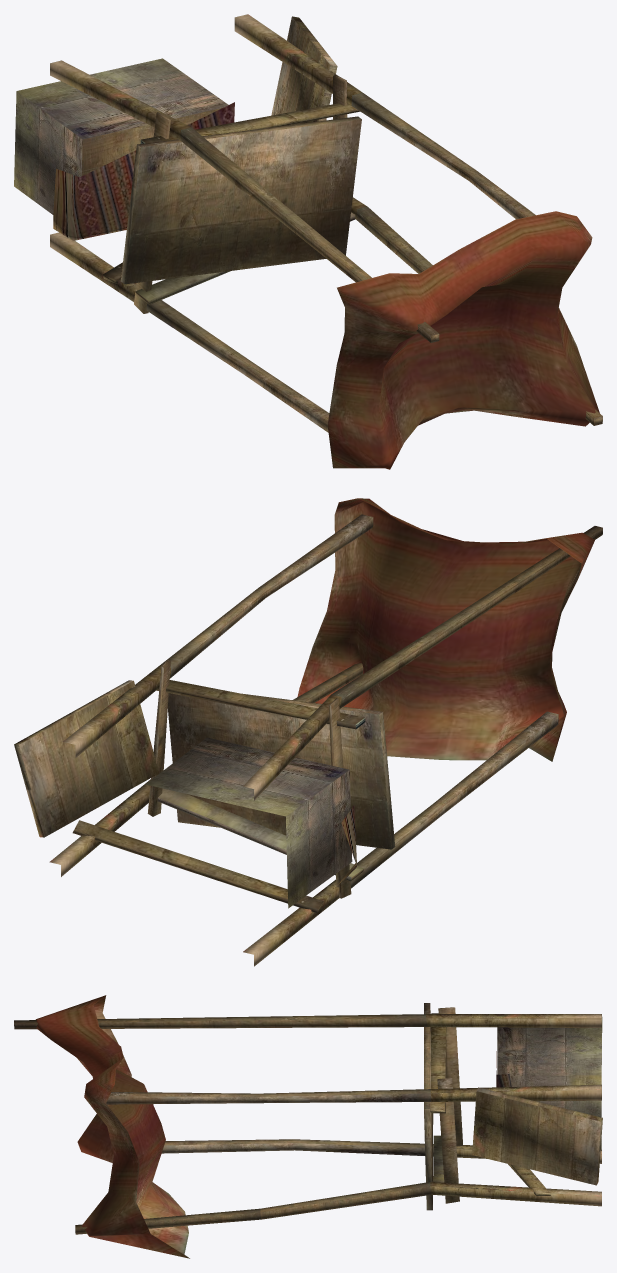
Rendered from prop_market_stands5.glb.
The picture shows the model from 3 angles, top to bottom: view 1: azimuth 30°, elevation 25°; view 2: azimuth 150°, elevation 25°; view 3: azimuth 270°, elevation 25°; orthographic projection. The views are drawn at different scales.
Size of the model in its own units: 72.67 by 54.63 by 156.
Materials: 1 (1 with a texture image).
